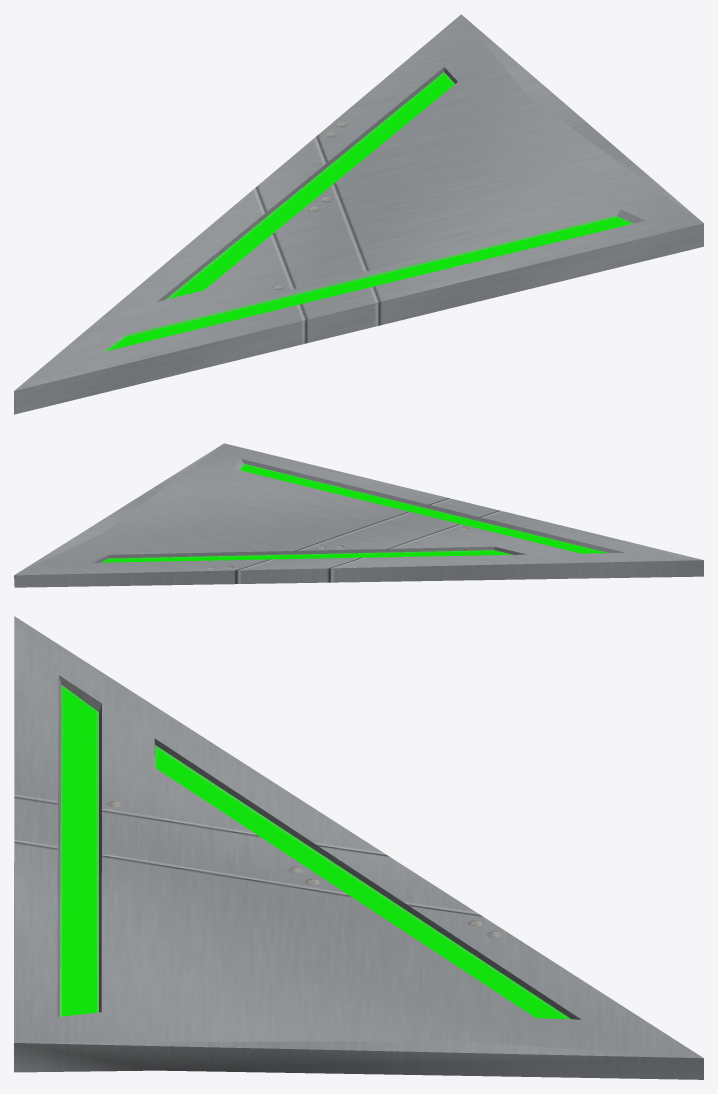
Rendered from X-Jet-2_Debris1.fbx.
The picture shows the model from 3 angles, top to bottom: view 1: azimuth 30°, elevation 25°; view 2: azimuth 150°, elevation 25°; view 3: azimuth 270°, elevation 25°; orthographic projection. The views are drawn at different scales.
Visible parts, largest first — view 1: X_Jet_Debris1; view 2: X_Jet_Debris1; view 3: X_Jet_Debris1.
Boxes of the visible parts, x1,y1,x2,y2 form: X_Jet_Debris1: [14, 14, 703, 414]; X_Jet_Debris1: [14, 443, 703, 587]; X_Jet_Debris1: [14, 616, 703, 1079].
Bounding box in the file's own units: 10.2 × 0.3732 × 6.69.
